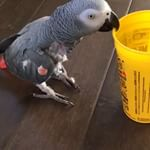cups: (110, 8, 150, 125)
